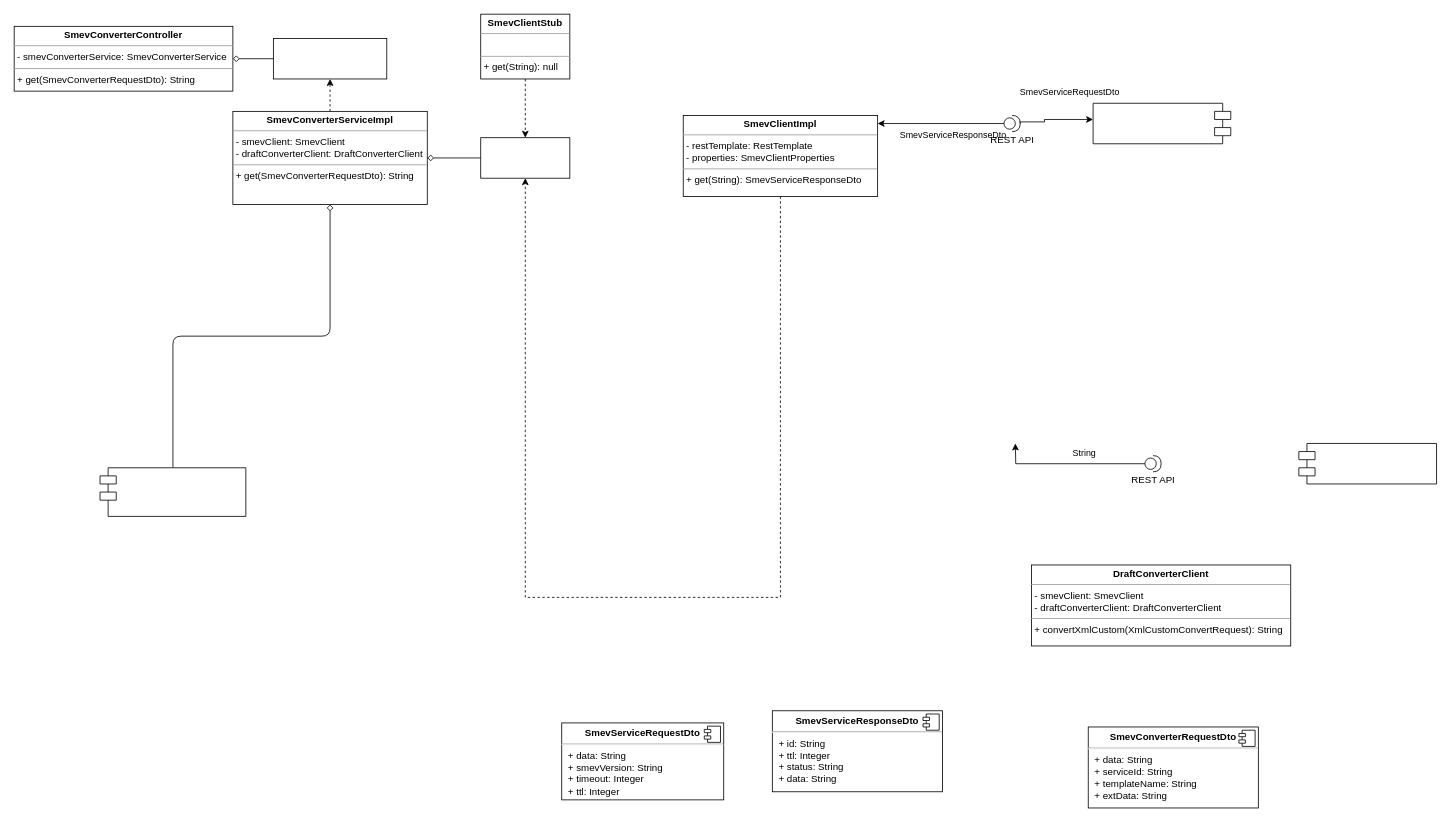
The diagram is 1451 pixels wide and 822 high, and some of its shapes have lost their labels. The shapes that lost their labels are listed below. From the top down, each one's centre as x and y in pixels, then its label:
At (330,58): "«interface» SmevConverterService".
At (1161,123): "Барбарбок".
At (525,157): "«interface» SmevClient".
At (1367,463): "Draft converter".
At (172,491): "DraftConverterClient".
